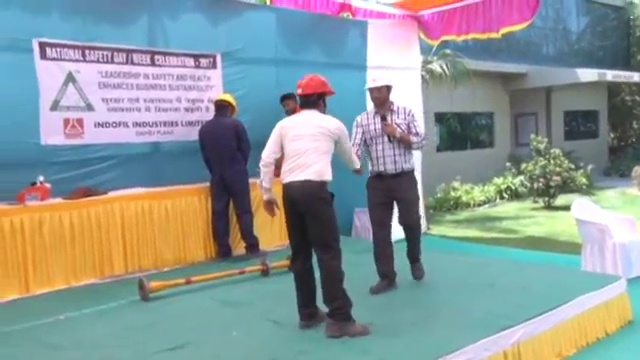helmet: (296, 73, 337, 96), (212, 91, 239, 117), (361, 70, 395, 90)
helmet_off: (278, 90, 302, 118)
helmet_on: (295, 72, 338, 117), (358, 68, 399, 114), (210, 88, 241, 124)
person: (258, 73, 368, 338), (351, 69, 427, 297), (198, 88, 267, 260)
